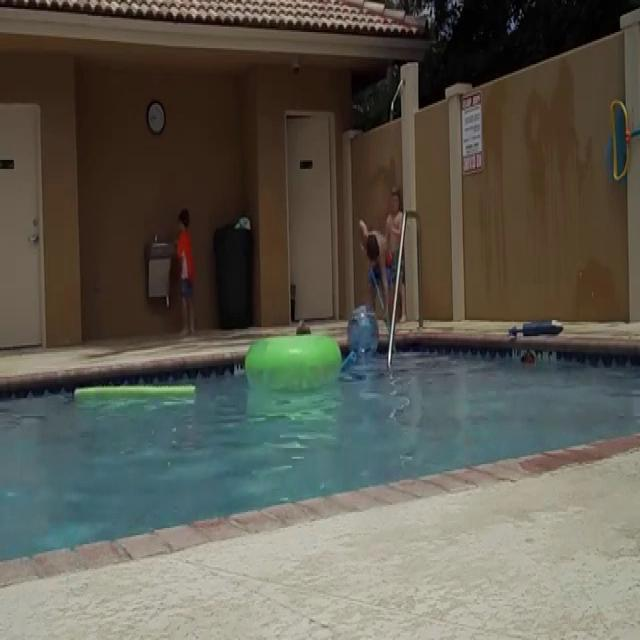child: (362, 219, 392, 333), (173, 200, 196, 342), (383, 184, 404, 320)
